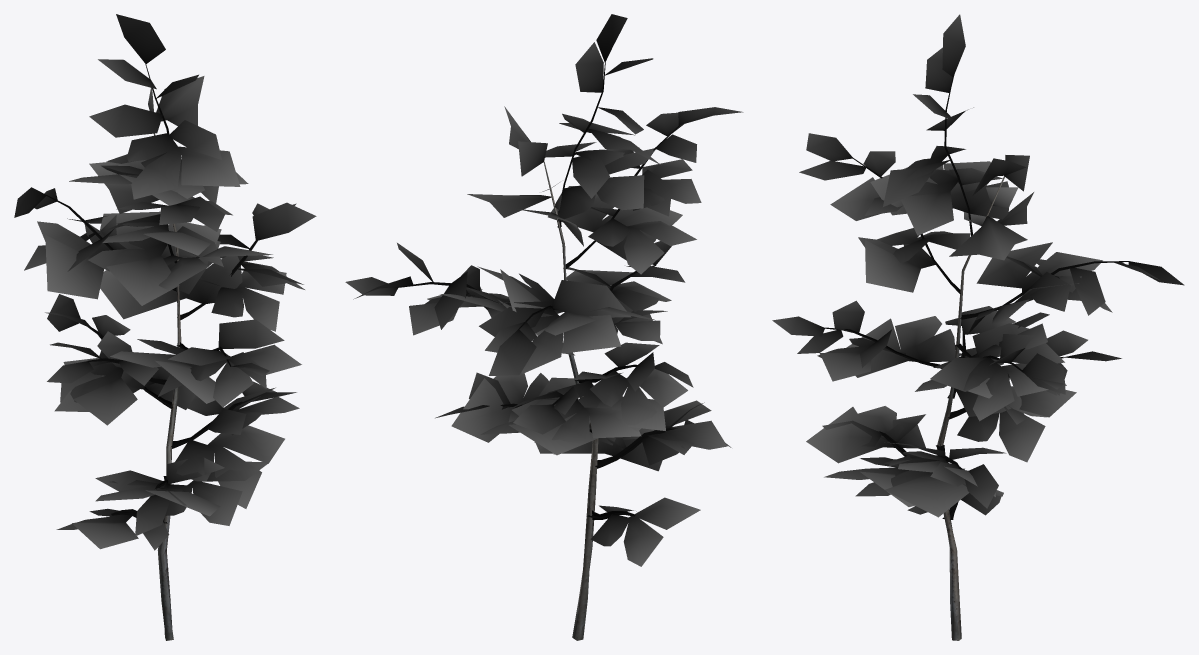
The model's file is beech_tree_00_C.FBX.
3 views of the same model, side by side, from view 1: azimuth 30°, elevation 25°; view 2: azimuth 150°, elevation 25°; view 3: azimuth 270°, elevation 25° (orthographic). The views are drawn at different scales.
Visible parts, largest first — view 1: beech_tree_00_C_LOD0; view 2: beech_tree_00_C_LOD0; view 3: beech_tree_00_C_LOD0.
Boxes of the visible parts, x1=… form: beech_tree_00_C_LOD0: x1=14, y1=14, x2=316, y2=640; beech_tree_00_C_LOD0: x1=345, y1=14, x2=743, y2=640; beech_tree_00_C_LOD0: x1=772, y1=14, x2=1184, y2=640.
Size of what is drawn, in the model's own units: 2666 by 5404 by 3358.
